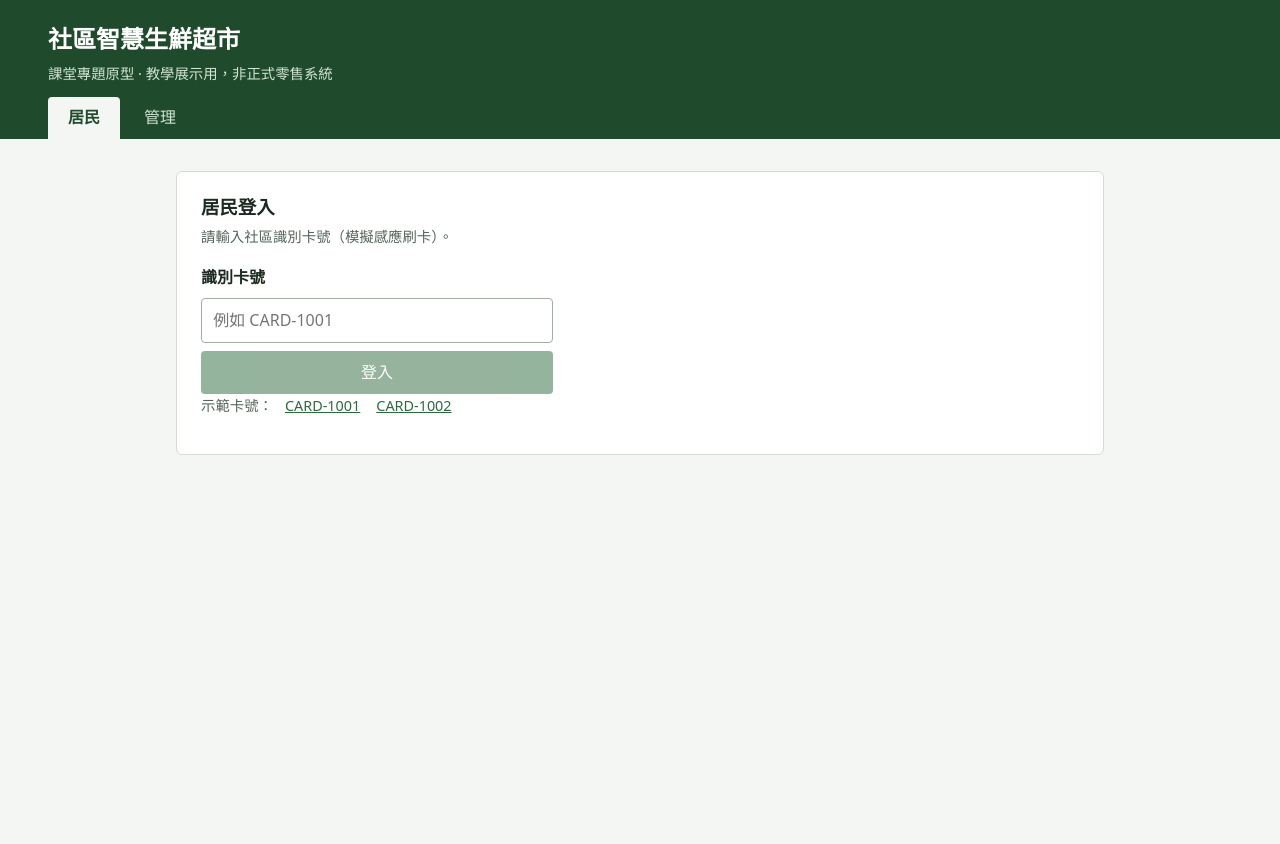
Scenario: each admin panel fails independently and offers a retry
This screenshot has width=1280, height=844.
Click the button "管理".
click(160, 118)  # box x1=124 y1=97 x2=196 y2=139
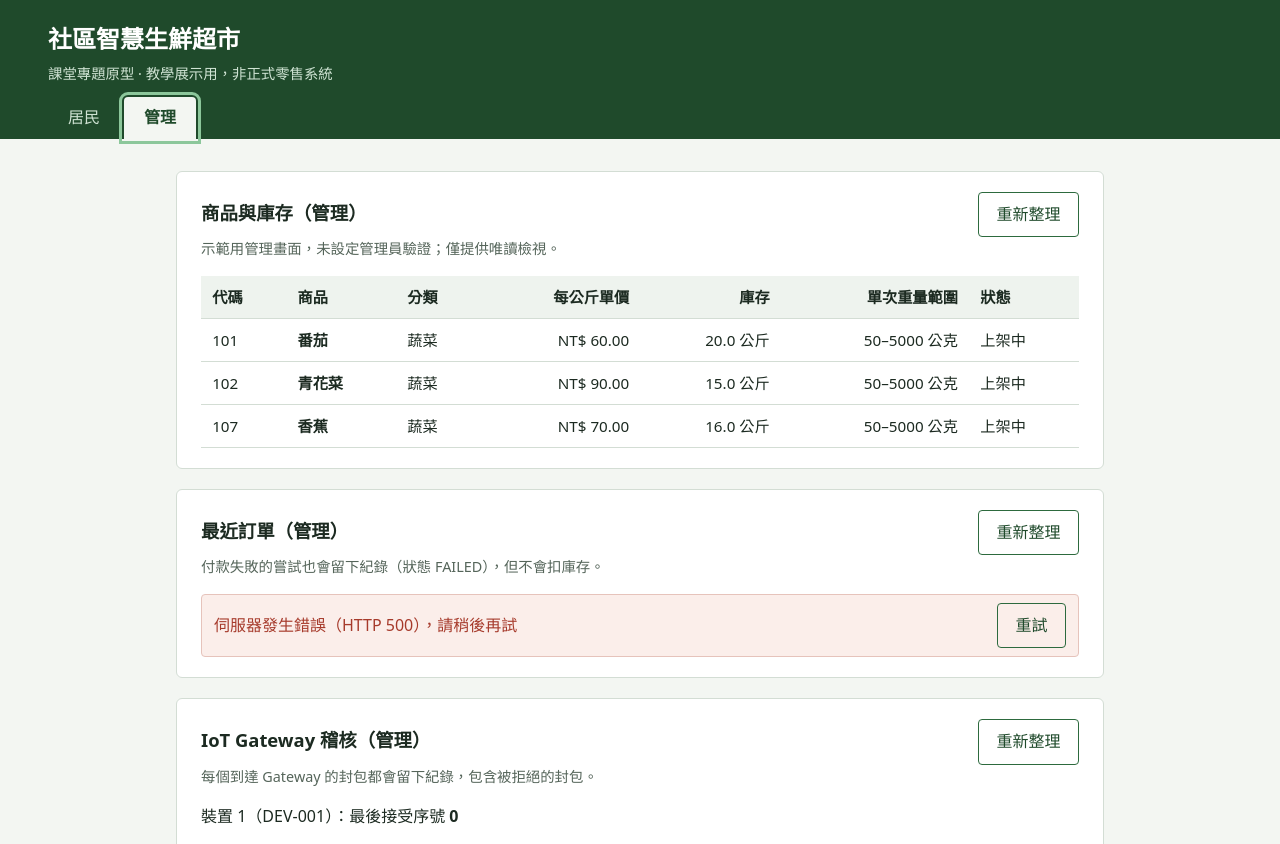
Check: the message shows "伺服器發生錯誤", box x1=214 y1=614 x2=517 y2=636
Check: the table named "商品庫存清單" is shown, box x1=201 y1=276 x2=1079 y2=448
Click the button "重試".
click(1031, 626)  # box x1=997 y1=603 x2=1066 y2=648
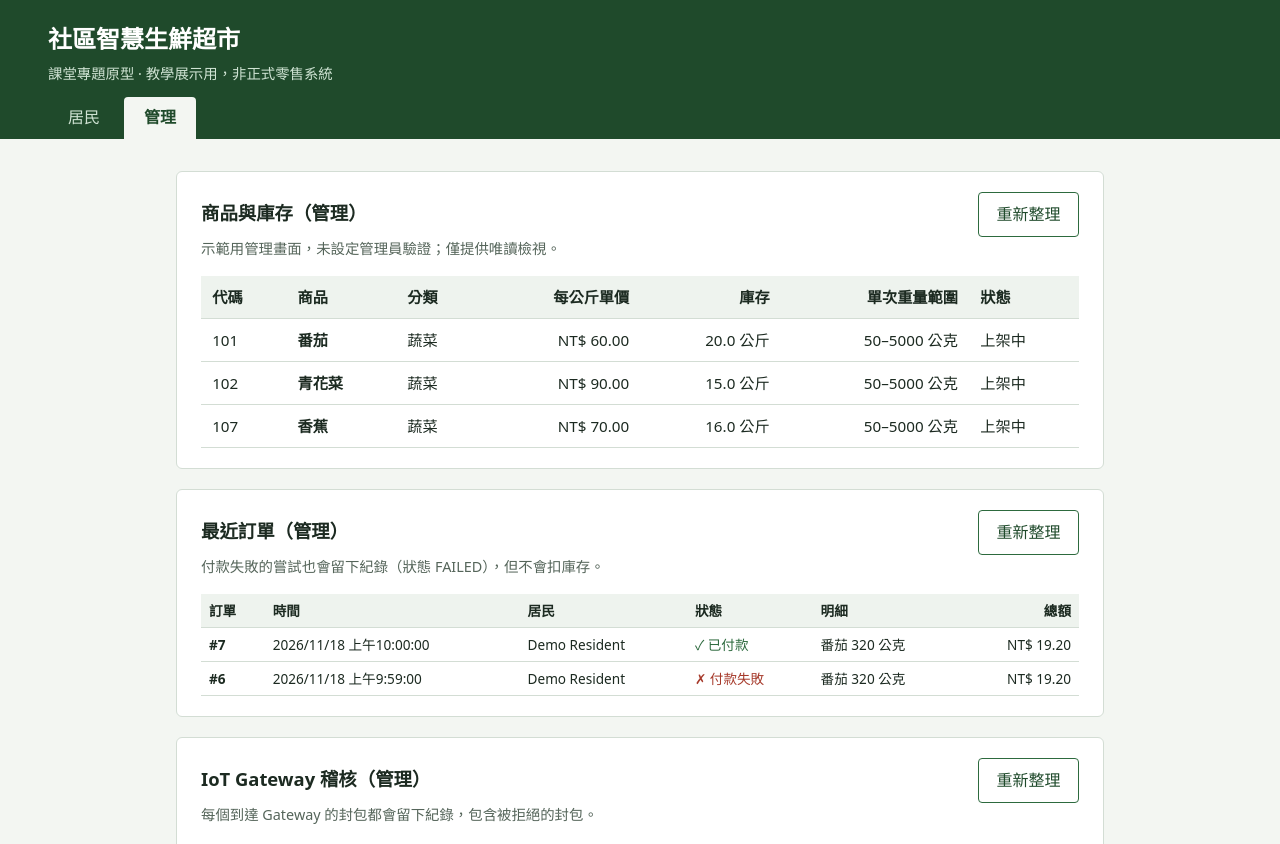
Check: the table named "最近訂單" is shown, box x1=201 y1=594 x2=1079 y2=696
Check: the message "伺服器發生錯誤（HTTP 500），請稍後再試 重試" is gone
